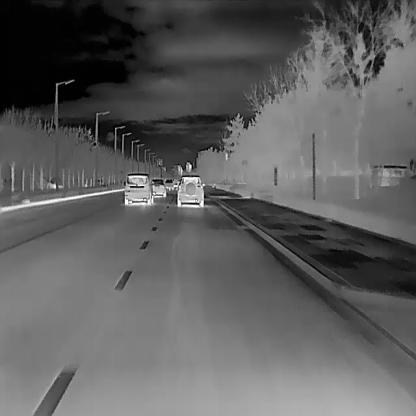car: (124, 172, 154, 206), (176, 175, 205, 206), (150, 177, 166, 197), (164, 178, 173, 188), (172, 178, 180, 187)
